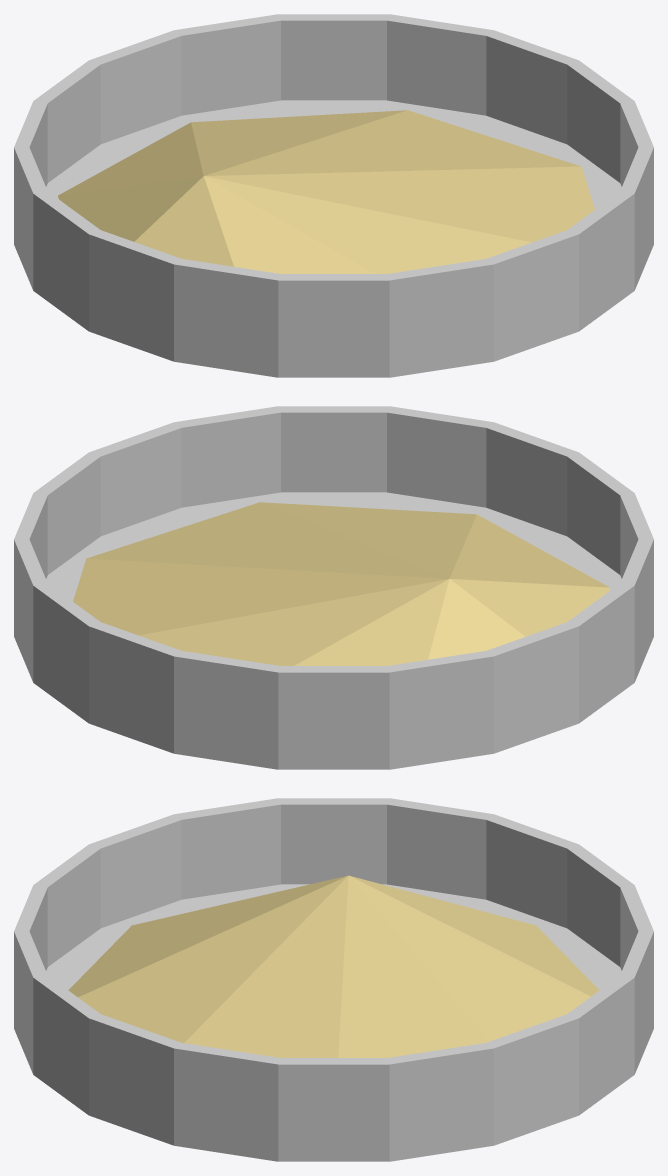
The model's file is Enxofre.fbx.
3 renders of one model, top to bottom at view 1: azimuth 30°, elevation 25°; view 2: azimuth 150°, elevation 25°; view 3: azimuth 270°, elevation 25°, orthographic.
Parts seen in each view (by area): view 1: Circle; view 2: Circle; view 3: Circle.
Boxes of the visible parts, box(x1,y1,x2,y2) form: Circle: box(14, 14, 653, 377); Circle: box(14, 406, 653, 769); Circle: box(14, 798, 653, 1161).
Size of the model in its own units: 197 by 33.55 by 200.
